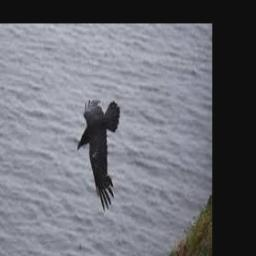Crow: (77, 97, 120, 211)
